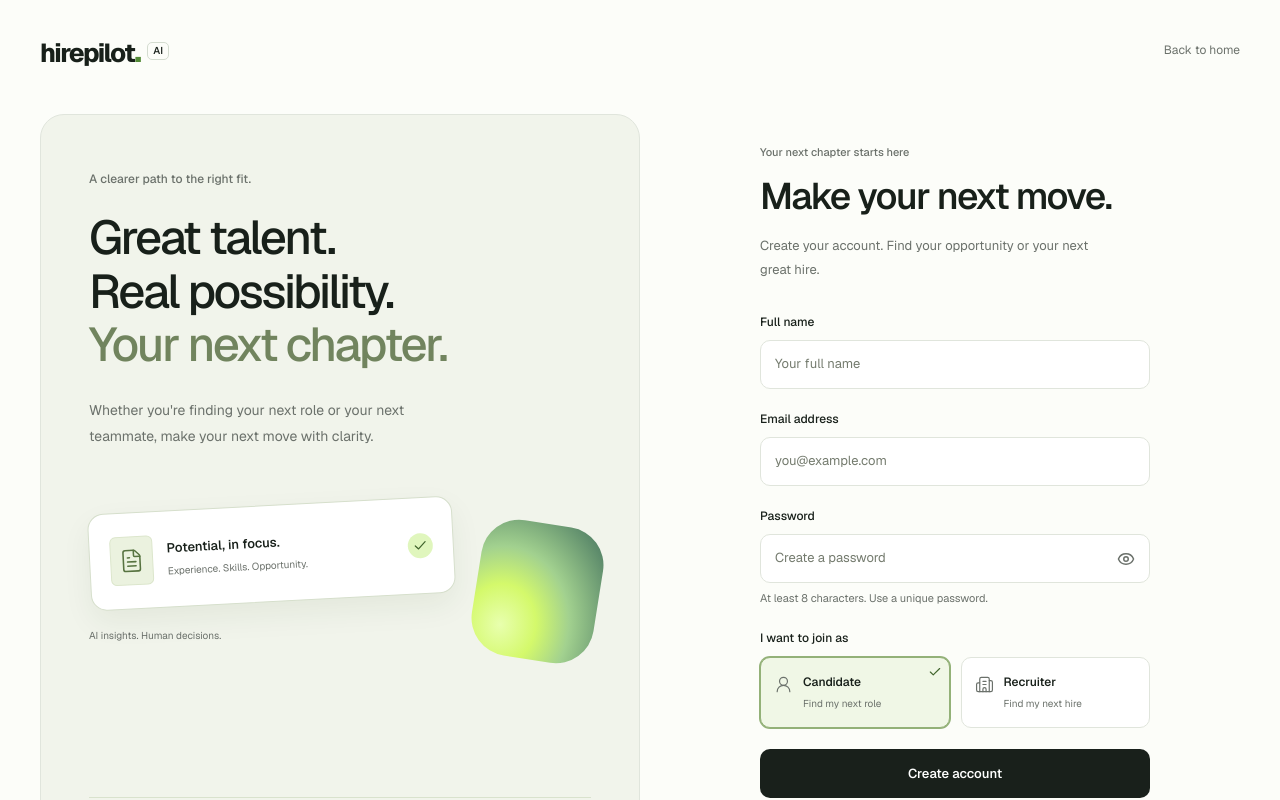
real forms, provider, API client, and route guards › shows field errors and focuses the first invalid field without requesting the API
Expected: the heading "Make your next move." is shown, [760, 175, 1150, 218]
Click the button "Create account": (955, 774) [760, 749, 1150, 798]
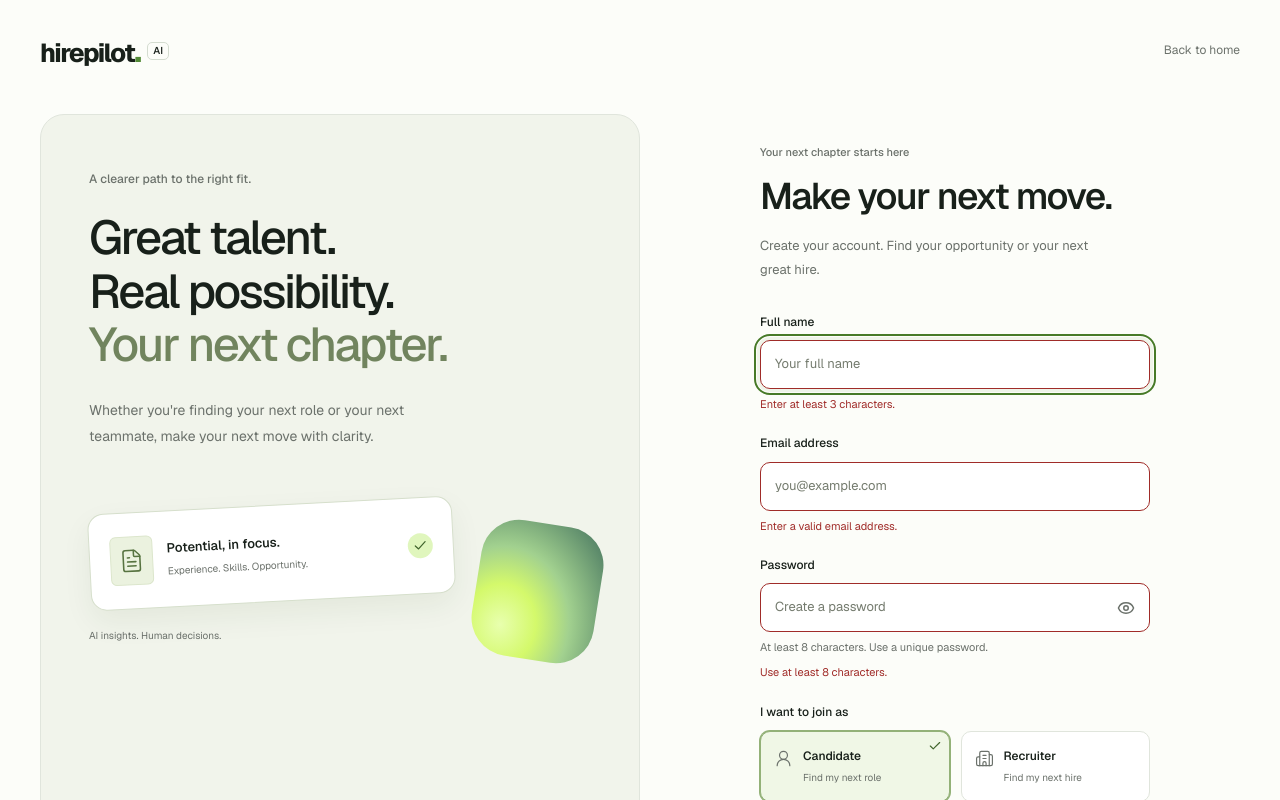
Result: the text "Enter at least 3 characters." is shown at [760, 397, 895, 411]
